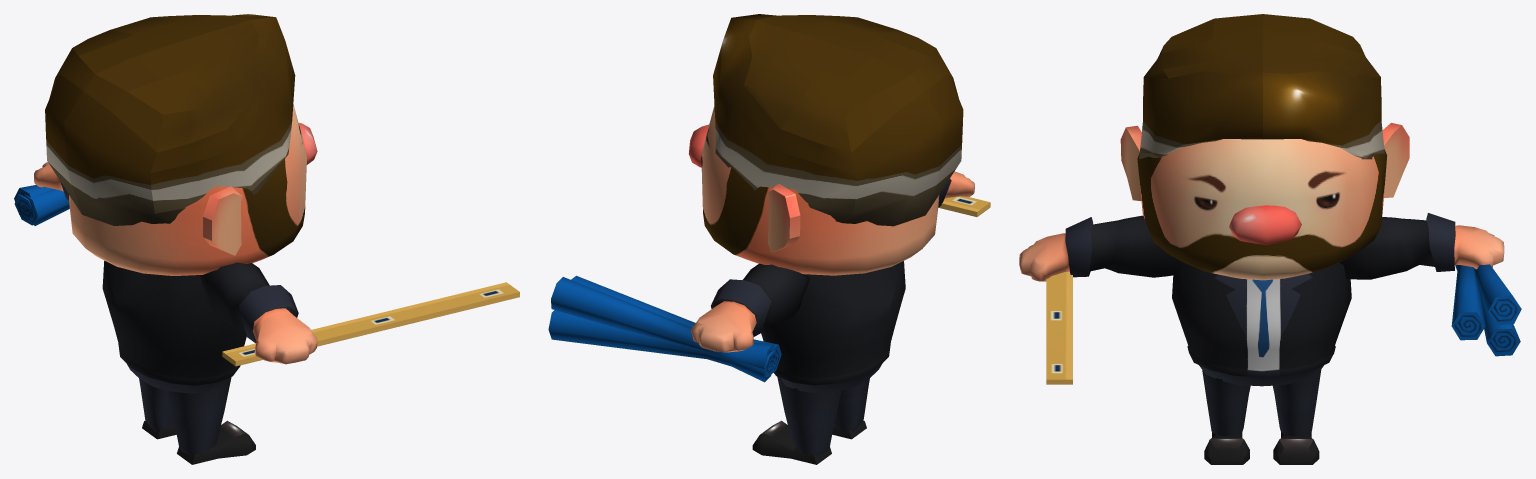
Rendered from Char_Man_Arc_06.fbx.
The picture shows the model from 3 angles, left to right: view 1: azimuth 30°, elevation 25°; view 2: azimuth 150°, elevation 25°; view 3: azimuth 270°, elevation 25°; orthographic projection.
Visible parts, largest first — view 1: Hair_DOA, Head_DOA, Body_DOA, R_Arm_DOA, R_Leg_DOA, Ruler_DOA, R_Ear_DOA, Papers_DOA, L_Leg_DOA, L_Arm_DOA; view 2: Hair_DOA, Head_DOA, Body_DOA, Papers_DOA, L_Arm_DOA, L_Leg_DOA, L_Ear_DOA, R_Leg_DOA, Ruler_DOA, R_Arm_DOA, Nose_DOA; view 3: Hair_DOA, Head_DOA, Body_DOA, R_Arm_DOA, L_Arm_DOA, Papers_DOA, L_Leg_DOA, R_Leg_DOA, Ruler_DOA, Nose_DOA, L_Ear_DOA, R_Ear_DOA.
Part boxes in pixels (x1,y1,x2,y2): Hair_DOA: (45,14,295,225); Head_DOA: (69,104,306,275); Body_DOA: (102,260,246,393); R_Arm_DOA: (200,262,317,364); R_Leg_DOA: (167,377,255,464); Ruler_DOA: (222,282,519,366); R_Ear_DOA: (203,186,242,255); Papers_DOA: (14,185,69,225); L_Leg_DOA: (139,378,176,439); L_Arm_DOA: (34,162,68,200); Hair_DOA: (713,14,963,226); Head_DOA: (701,105,939,275); Body_DOA: (761,261,905,393); Papers_DOA: (548,275,781,382); L_Arm_DOA: (691,263,809,352); L_Leg_DOA: (752,376,841,464); L_Ear_DOA: (768,183,800,252); R_Leg_DOA: (832,378,869,439); Ruler_DOA: (938,196,990,216); R_Arm_DOA: (938,171,974,207); Nose_DOA: (688,124,708,167); Hair_DOA: (1139,14,1384,159); Head_DOA: (1137,139,1387,280); Body_DOA: (1172,262,1351,386); R_Arm_DOA: (1019,215,1182,281); L_Arm_DOA: (1339,213,1504,279); Papers_DOA: (1451,264,1521,356); L_Leg_DOA: (1273,369,1321,464); R_Leg_DOA: (1202,370,1250,464); Ruler_DOA: (1046,272,1072,384); Nose_DOA: (1229,205,1301,244); L_Ear_DOA: (1382,123,1409,198); R_Ear_DOA: (1120,125,1141,201).
Size of the model in its own units: 6.34 by 7.09 by 8.02.
2 materials, 2 textured.
